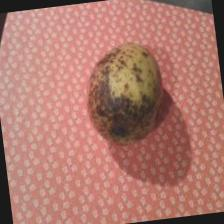Mango Overripe: (80, 32, 171, 144)
